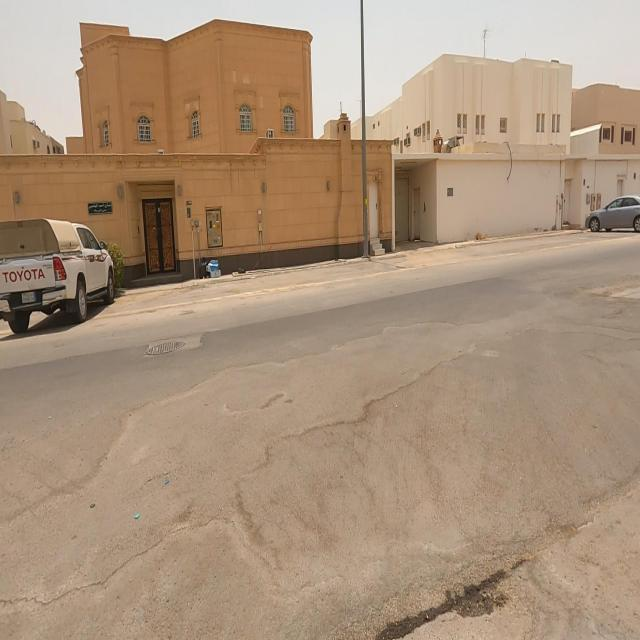debris: (177, 227, 246, 300)
